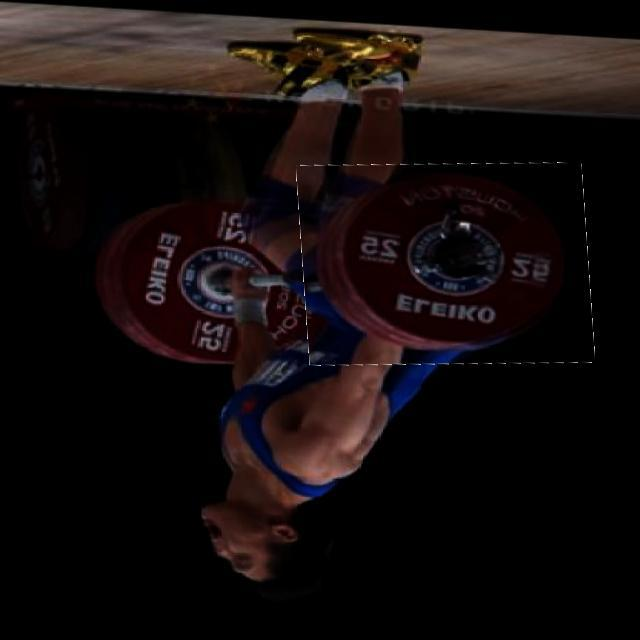barbell: (300, 148, 593, 370)
